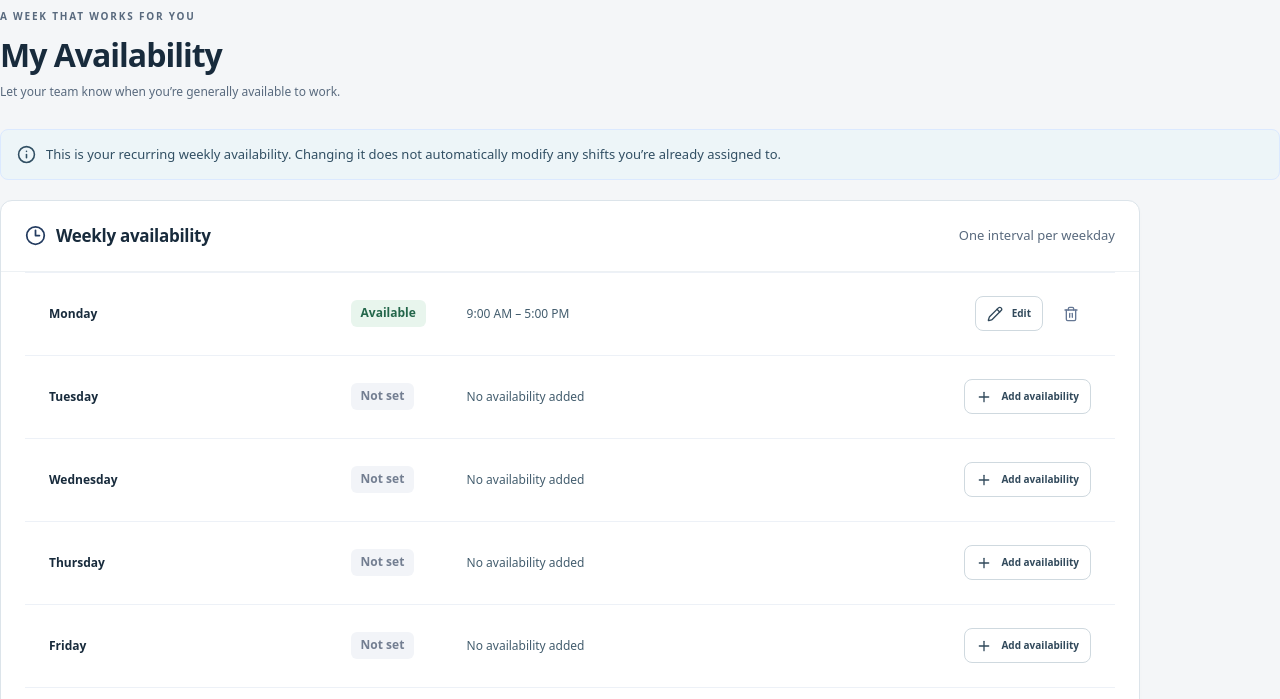
it: availability removal confirms that assigned shifts remain unchanged
Click the button named "Remove Monday availability" at (1071, 314), box [1051,296,1091,331]
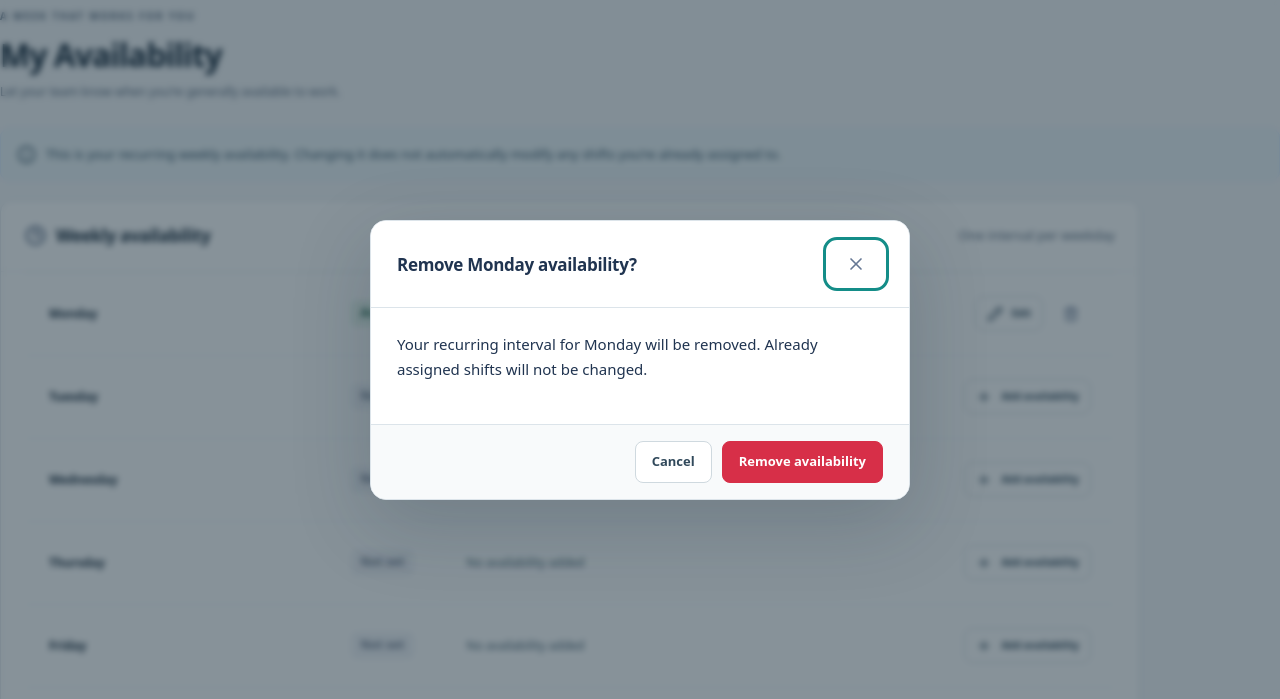
Now the dialog shows "Already assigned shifts will not be changed", box [397,334,818,379]
Click the button "Remove availability" at (802, 462), box [722,441,883,483]
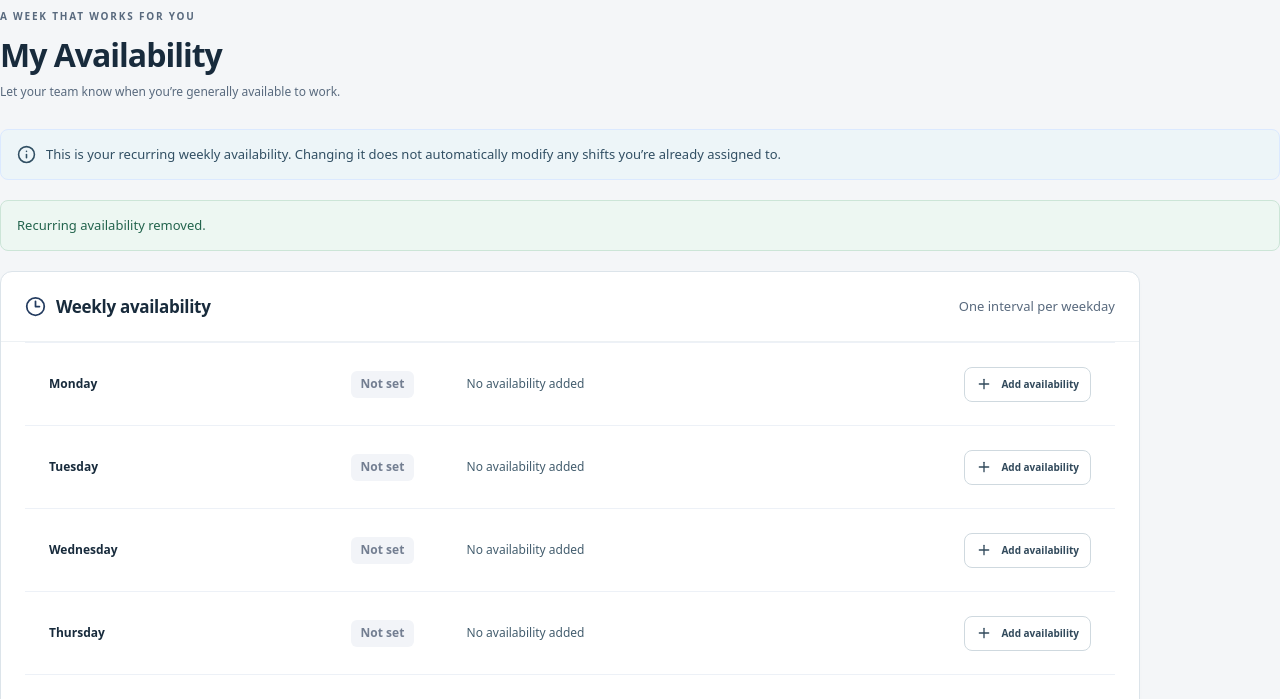
Now the text "Recurring availability removed." is shown, box [0,200,1279,251]
